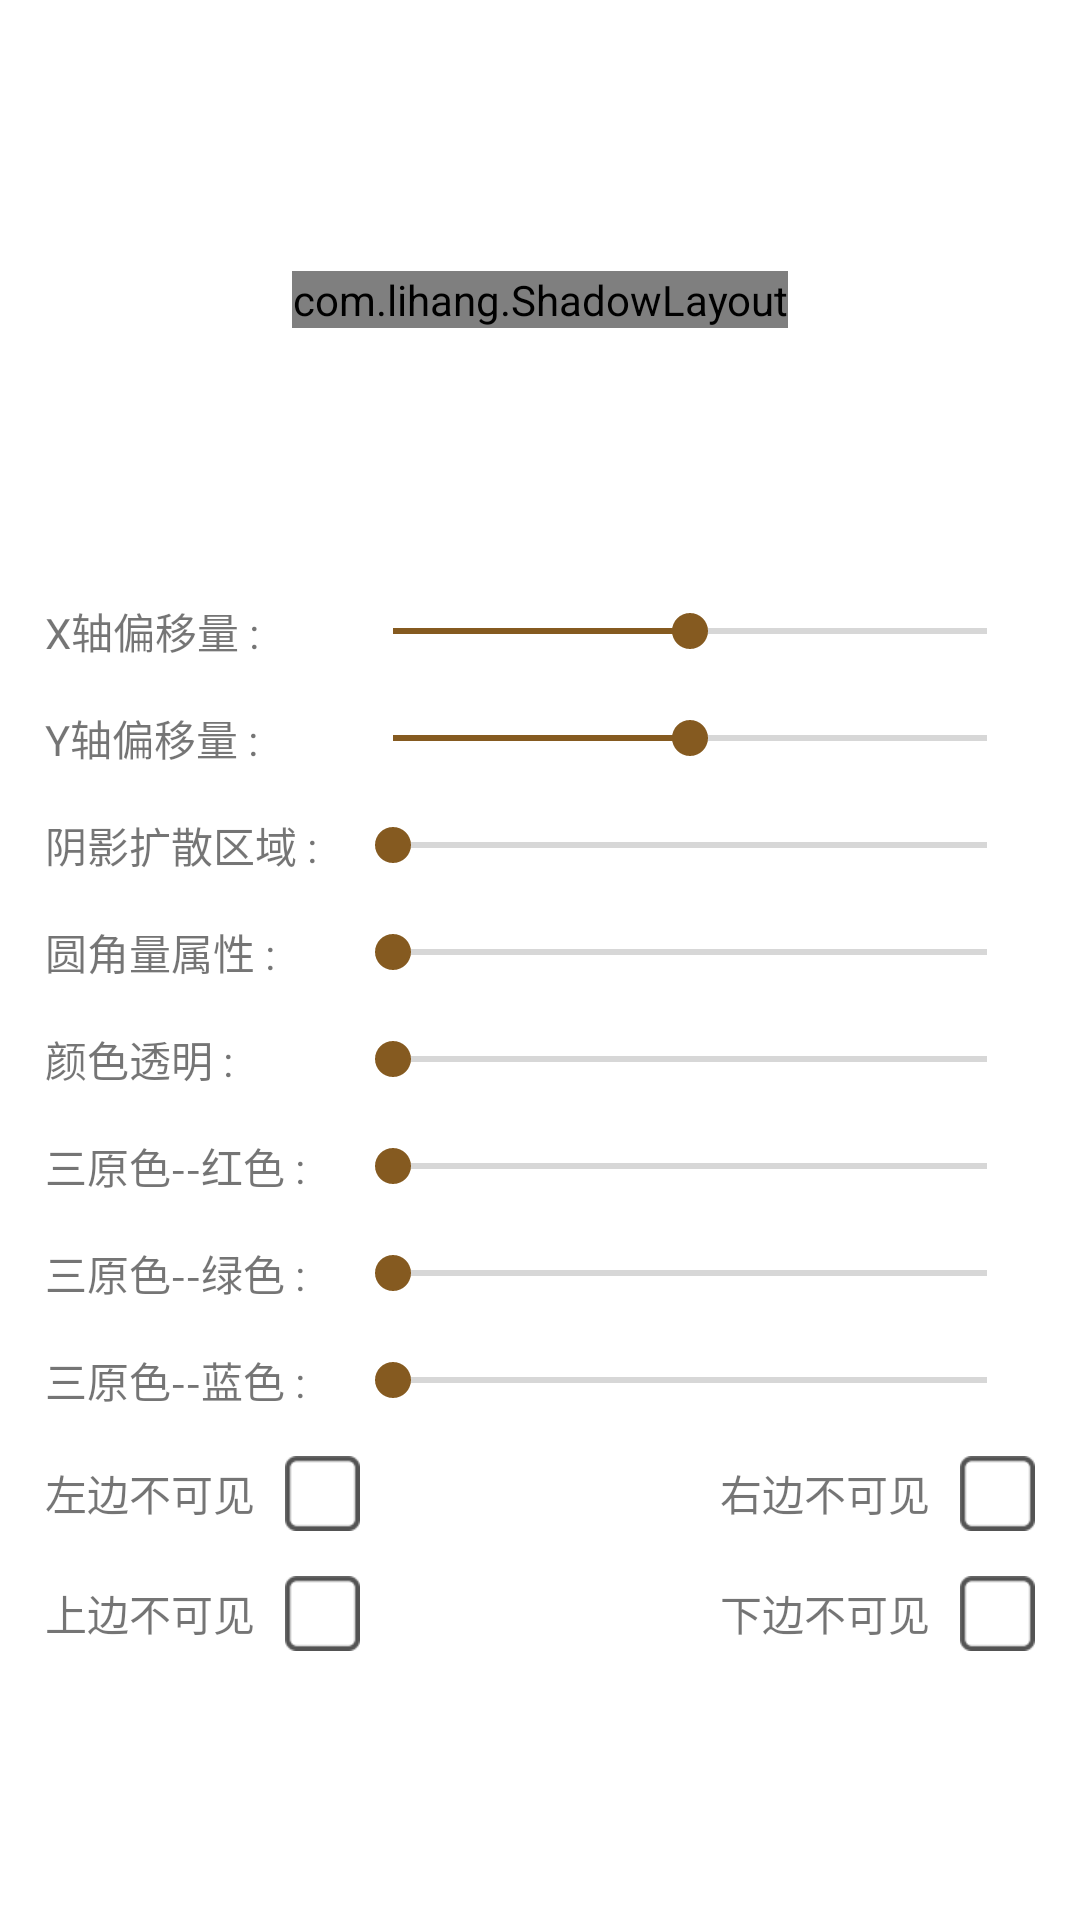

Named icons in this screenshot (1080 × 1920) and their centers, point (x, y):
select: point (322, 1493), point (997, 1493), point (322, 1613), point (997, 1613)
